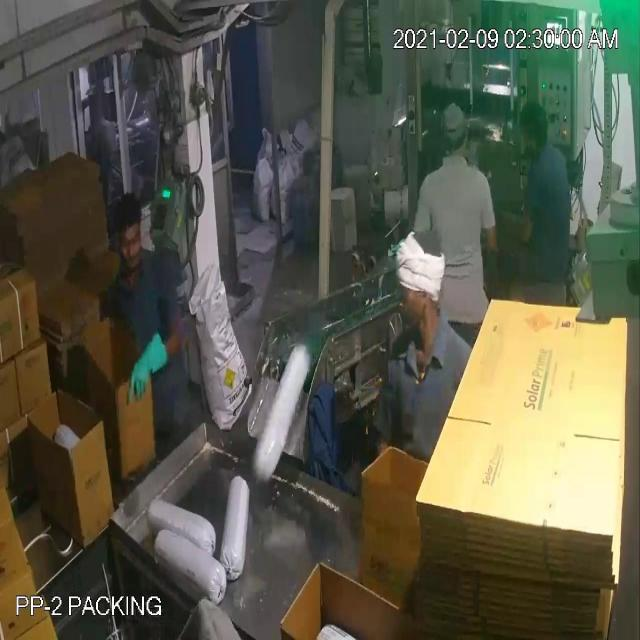Gloves: (127, 328, 180, 408)
